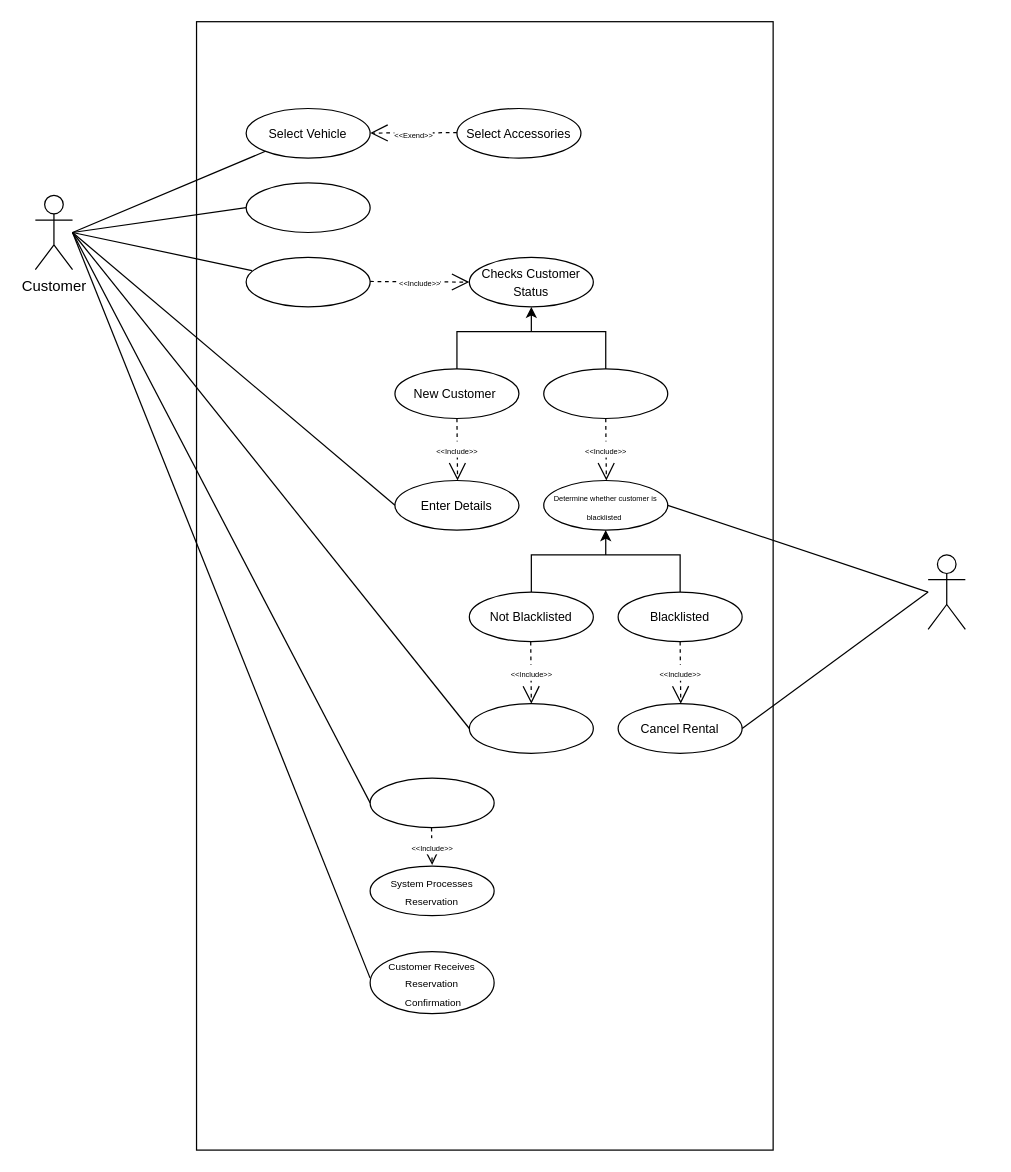
The diagram is 1011 pixels wide and 1172 high, and some of its shapes have lost their labels. The shapes that lost their labels are listed below. From the top down, each one's centre as x and y in pixels, then its label:
pixel 307 207: Select Date
pixel 307 281: Submit Request
pixel 605 393: Existing Customer
pixel 946 591: Rental Agent
pixel 530 727: Review and/or update details
pixel 431 802: Pay 10% Depost
